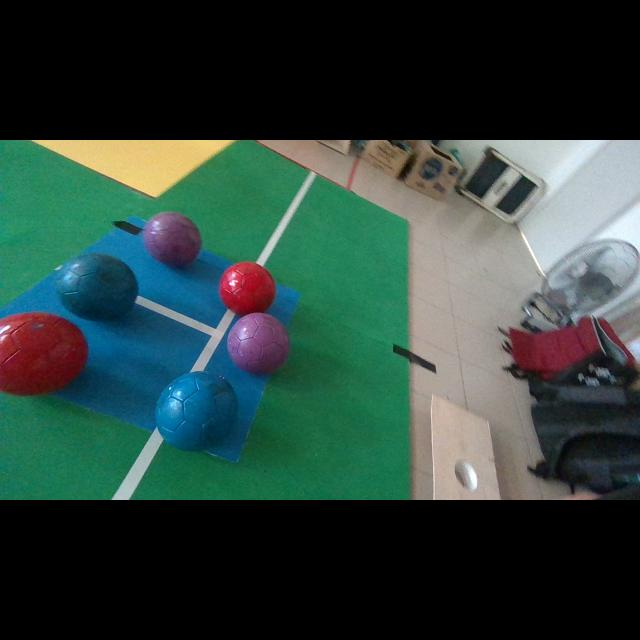B: (155, 371, 238, 451), (56, 252, 139, 319)
P: (228, 312, 290, 375), (142, 214, 201, 266)
R: (0, 312, 88, 395), (219, 261, 276, 315)
